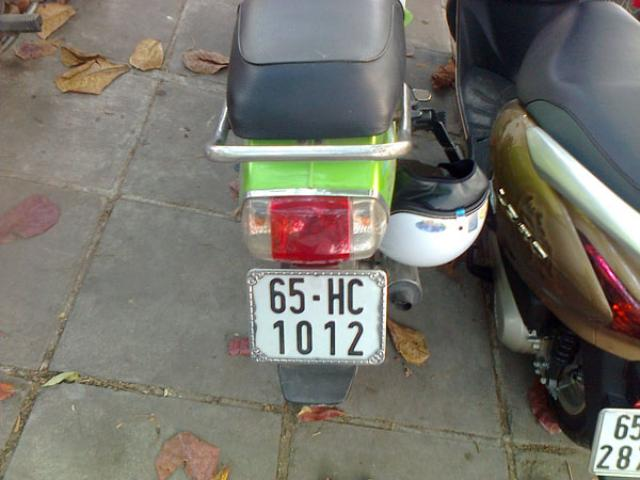plate: (250, 268, 382, 360)
